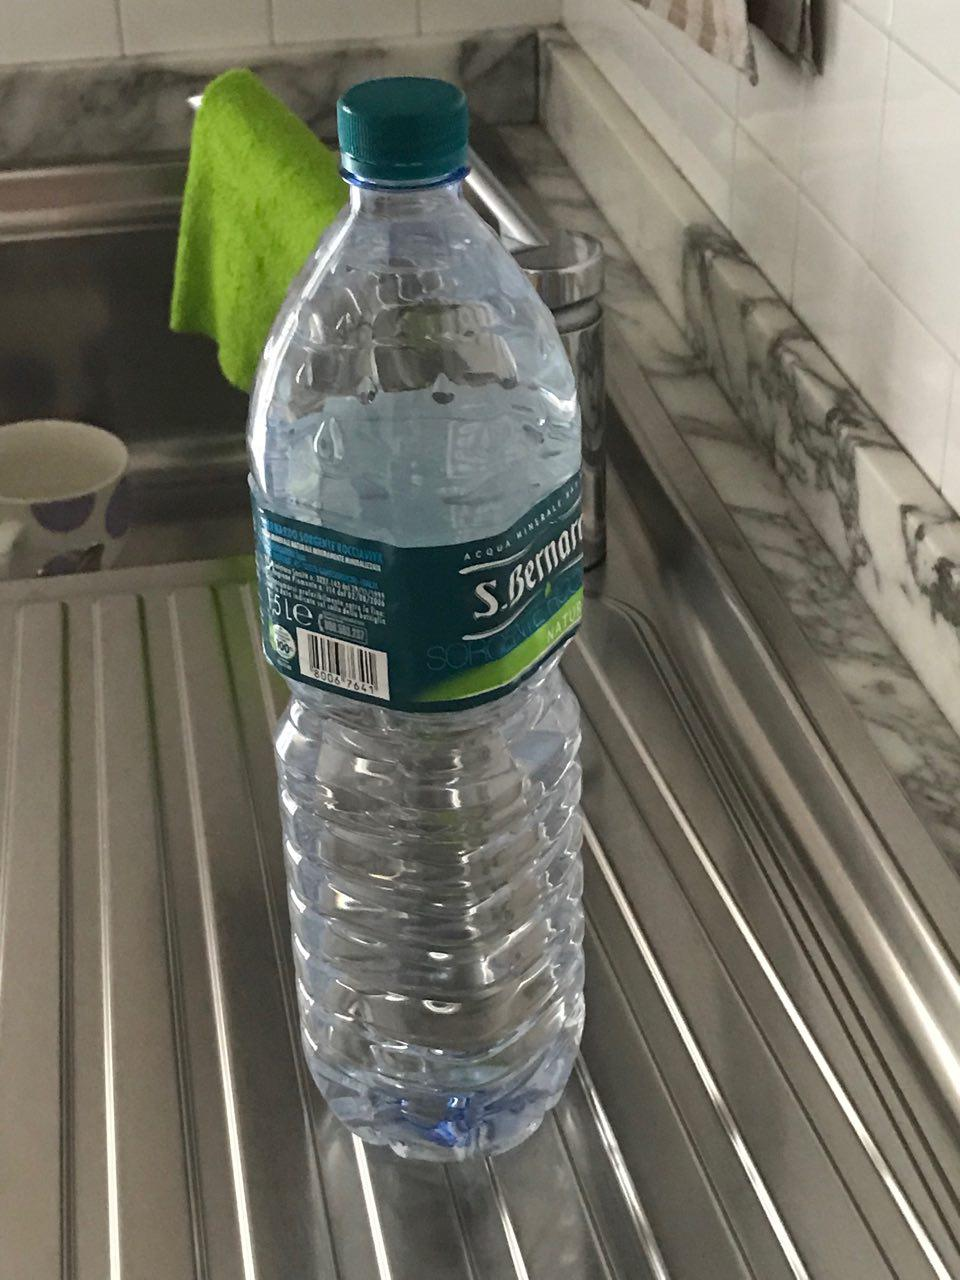san_bernardo: (244, 75, 587, 1163)
